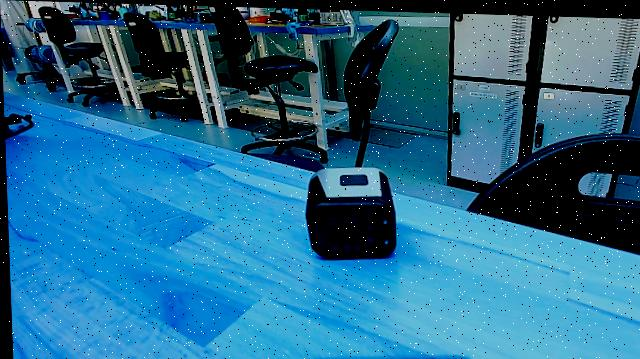adapter: (301, 162, 401, 264)
